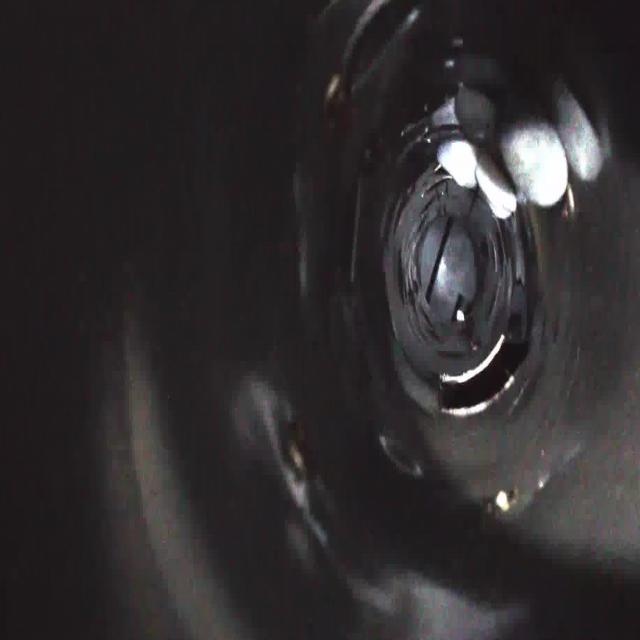crack: (379, 177, 419, 251), (382, 234, 416, 316), (482, 279, 528, 335), (480, 214, 517, 282), (419, 160, 454, 222), (456, 164, 488, 218), (401, 313, 434, 361), (434, 343, 471, 368)
hole: (433, 334, 535, 433)
